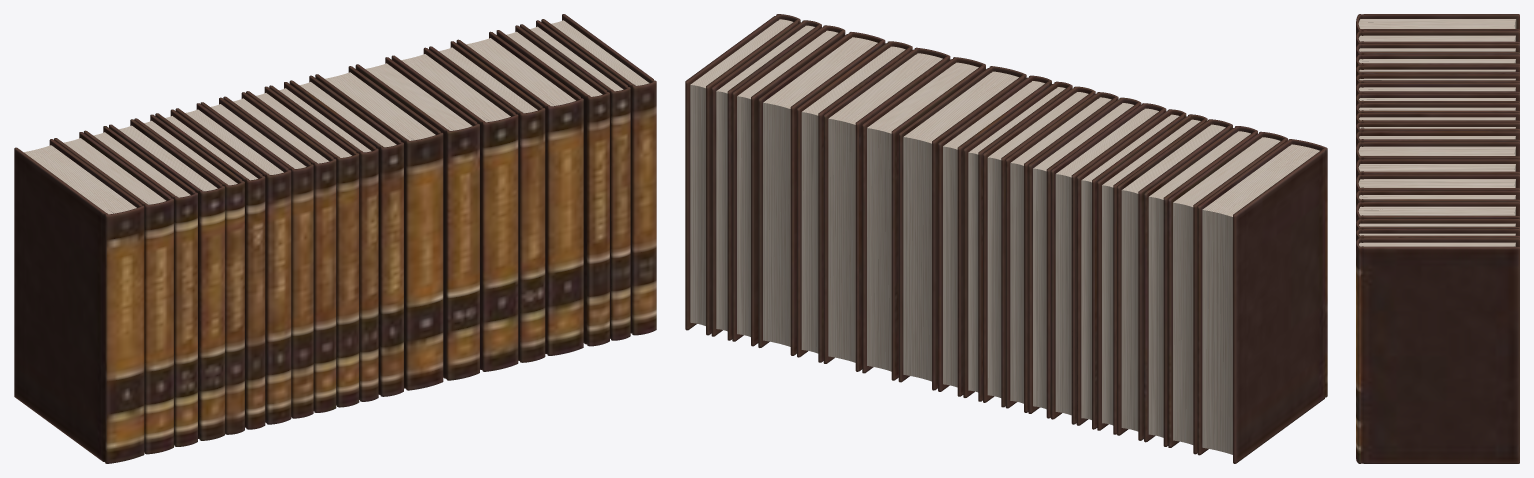
The model's file is book_encyclopedia_set_01-dadb9479.glb.
The picture shows the model from 3 angles, left to right: view 1: azimuth 30°, elevation 25°; view 2: azimuth 150°, elevation 25°; view 3: azimuth 270°, elevation 25°; orthographic projection. The views are drawn at different scales.
Parts seen in each view (by area): view 1: book_encyclopedia_set_01_book01, book_encyclopedia_set_01_book13, book_encyclopedia_set_01_book15, book_encyclopedia_set_01_book17, book_encyclopedia_set_01_book14, book_encyclopedia_set_01_book02, book_encyclopedia_set_01_book16, book_encyclopedia_set_01_book04, book_encyclopedia_set_01_book18, book_encyclopedia_set_01_book20, book_encyclopedia_set_01_book07, book_encyclopedia_set_01_book12 (+8 smaller); view 2: book_encyclopedia_set_01_book01, book_encyclopedia_set_01_book13, book_encyclopedia_set_01_book15, book_encyclopedia_set_01_book17, book_encyclopedia_set_01_book14, book_encyclopedia_set_01_book02, book_encyclopedia_set_01_book04, book_encyclopedia_set_01_book16, book_encyclopedia_set_01_book18, book_encyclopedia_set_01_book20, book_encyclopedia_set_01_book07, book_encyclopedia_set_01_book12 (+8 smaller); view 3: book_encyclopedia_set_01_book20, book_encyclopedia_set_01_book13, book_encyclopedia_set_01_book01, book_encyclopedia_set_01_book17, book_encyclopedia_set_01_book15, book_encyclopedia_set_01_book14, book_encyclopedia_set_01_book02, book_encyclopedia_set_01_book16, book_encyclopedia_set_01_book03, book_encyclopedia_set_01_book12, book_encyclopedia_set_01_book07, book_encyclopedia_set_01_book04 (+8 smaller).
Part boxes in pixels (x1=…): book_encyclopedia_set_01_book01: x1=14, y1=139, x2=144, y2=463; book_encyclopedia_set_01_book13: x1=315, y1=66, x2=443, y2=390; book_encyclopedia_set_01_book15: x1=391, y1=47, x2=518, y2=371; book_encyclopedia_set_01_book17: x1=456, y1=31, x2=583, y2=355; book_encyclopedia_set_01_book14: x1=355, y1=57, x2=479, y2=380; book_encyclopedia_set_01_book02: x1=54, y1=132, x2=173, y2=454; book_encyclopedia_set_01_book16: x1=429, y1=41, x2=545, y2=362; book_encyclopedia_set_01_book04: x1=109, y1=119, x2=224, y2=440; book_encyclopedia_set_01_book18: x1=496, y1=25, x2=609, y2=346; book_encyclopedia_set_01_book20: x1=541, y1=14, x2=656, y2=335; book_encyclopedia_set_01_book07: x1=175, y1=103, x2=291, y2=424; book_encyclopedia_set_01_book12: x1=289, y1=75, x2=403, y2=396; book_encyclopedia_set_01_book01: x1=1197, y1=139, x2=1327, y2=463; book_encyclopedia_set_01_book13: x1=898, y1=66, x2=1026, y2=390; book_encyclopedia_set_01_book15: x1=823, y1=47, x2=950, y2=371; book_encyclopedia_set_01_book17: x1=758, y1=32, x2=885, y2=355; book_encyclopedia_set_01_book14: x1=862, y1=57, x2=985, y2=380; book_encyclopedia_set_01_book02: x1=1168, y1=131, x2=1287, y2=454; book_encyclopedia_set_01_book04: x1=1117, y1=119, x2=1232, y2=440; book_encyclopedia_set_01_book16: x1=797, y1=41, x2=912, y2=362; book_encyclopedia_set_01_book18: x1=732, y1=25, x2=845, y2=346; book_encyclopedia_set_01_book20: x1=685, y1=14, x2=800, y2=335; book_encyclopedia_set_01_book07: x1=1051, y1=103, x2=1166, y2=424; book_encyclopedia_set_01_book12: x1=938, y1=75, x2=1051, y2=396; book_encyclopedia_set_01_book20: x1=1356, y1=238, x2=1519, y2=463; book_encyclopedia_set_01_book13: x1=1356, y1=142, x2=1519, y2=164; book_encyclopedia_set_01_book01: x1=1356, y1=14, x2=1519, y2=35; book_encyclopedia_set_01_book17: x1=1356, y1=202, x2=1519, y2=222; book_encyclopedia_set_01_book15: x1=1356, y1=174, x2=1519, y2=194; book_encyclopedia_set_01_book14: x1=1356, y1=159, x2=1519, y2=180; book_encyclopedia_set_01_book02: x1=1356, y1=30, x2=1519, y2=47; book_encyclopedia_set_01_book16: x1=1356, y1=190, x2=1519, y2=208; book_encyclopedia_set_01_book03: x1=1356, y1=43, x2=1519, y2=58; book_encyclopedia_set_01_book12: x1=1356, y1=131, x2=1519, y2=148; book_encyclopedia_set_01_book07: x1=1356, y1=82, x2=1519, y2=96; book_encyclopedia_set_01_book04: x1=1356, y1=54, x2=1519, y2=68.
Bounding box in the file's own units: 0.5513 × 0.2374 × 0.1631.
2 materials, 2 textured.
